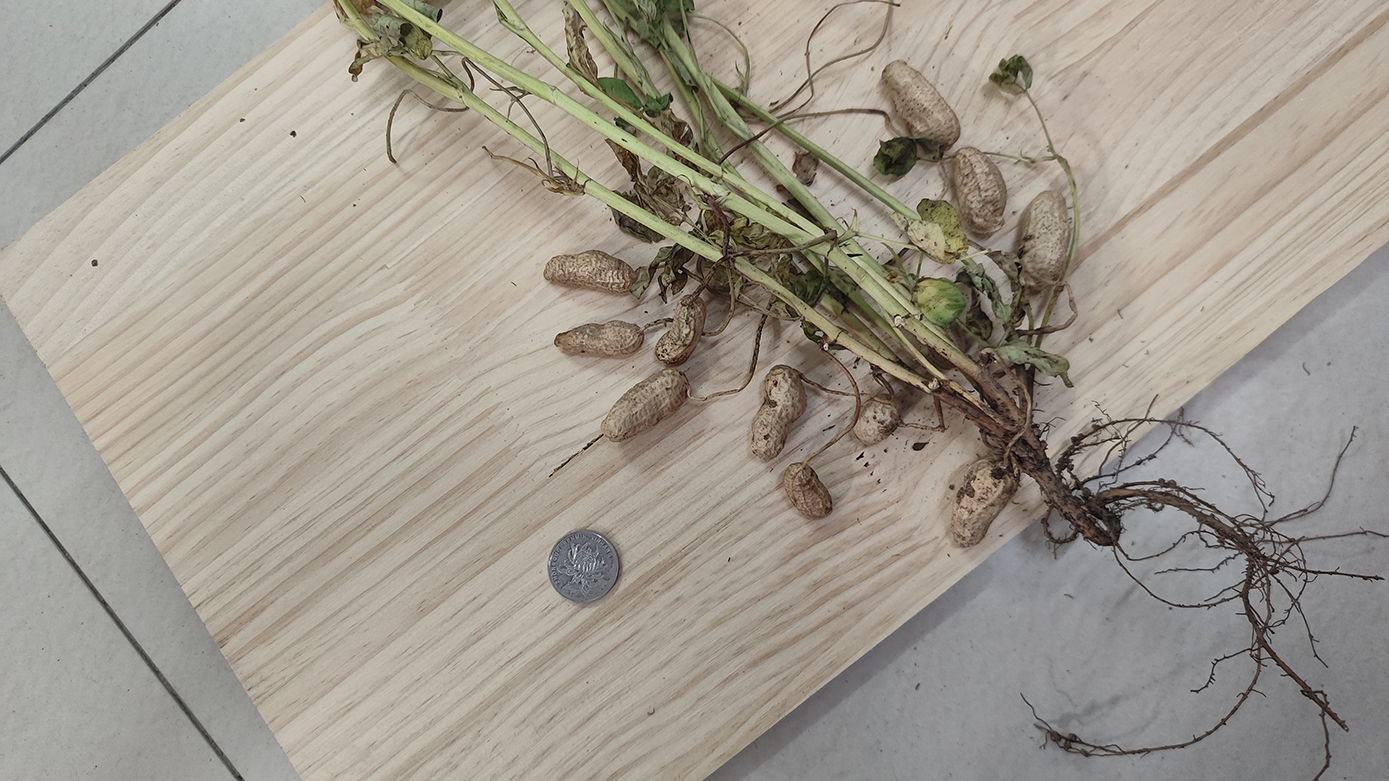h: (597, 367, 691, 443), (881, 60, 961, 147), (946, 458, 1017, 547), (749, 363, 808, 459), (1016, 189, 1072, 286), (951, 147, 1008, 237), (543, 248, 636, 295), (652, 294, 709, 366), (553, 318, 643, 359), (784, 463, 833, 519), (854, 399, 901, 445)
